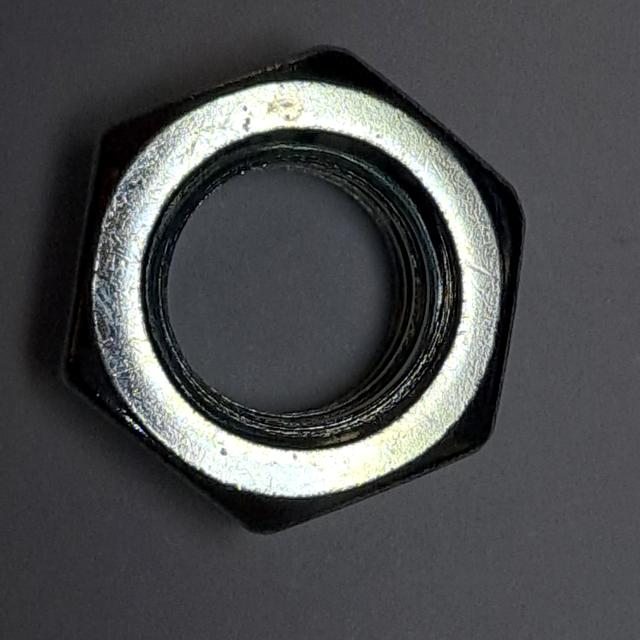Excellent: (49, 31, 541, 556)
